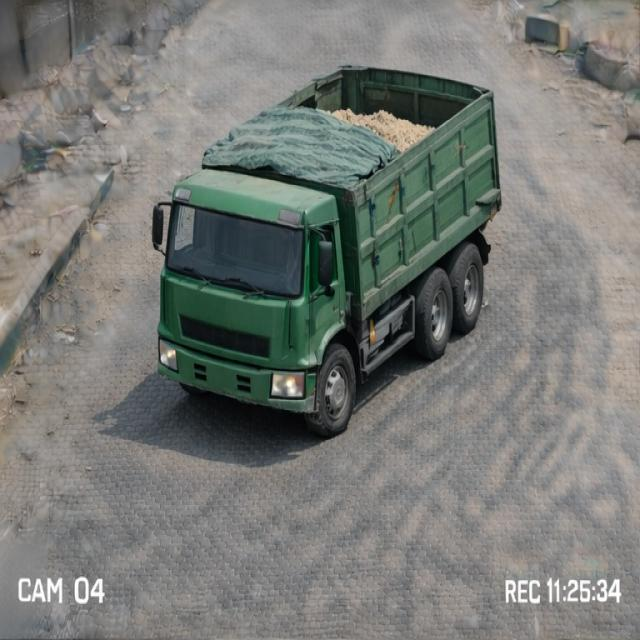Box: (203, 65, 501, 192)
Truck: (152, 46, 508, 428)
